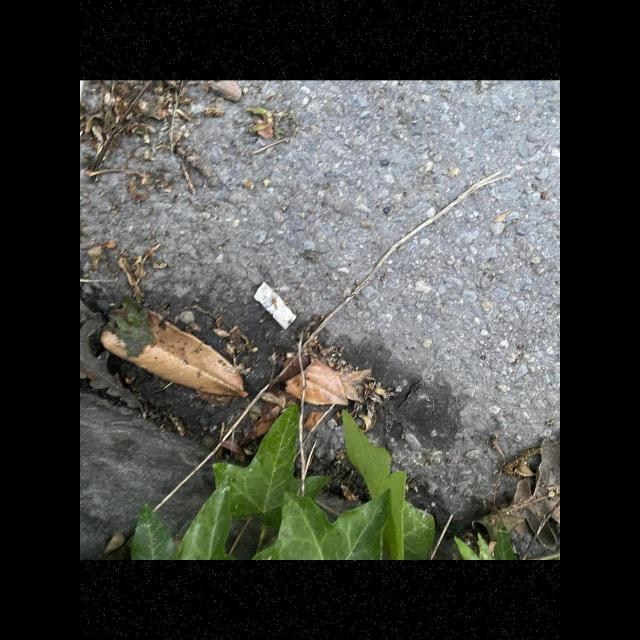cigarette: (252, 281, 296, 330)
